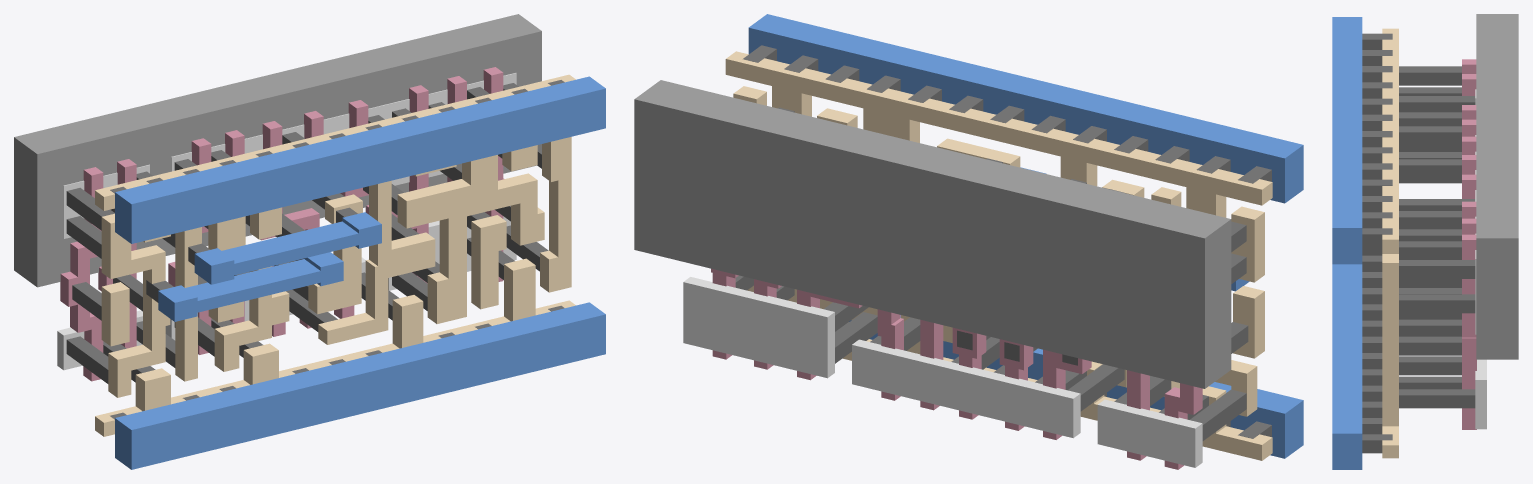
File: sky130_fd_sc_hd__dlrtp_1.gds.gltf
3 renders of one model, left to right at view 1: azimuth 30°, elevation 25°; view 2: azimuth 150°, elevation 25°; view 3: azimuth 270°, elevation 25°, orthographic. The views are drawn at different scales.
Parts seen in each view (by area): view 1: sky130_fd_sc_hd__dlrtp_1_met1, sky130_fd_sc_hd__dlrtp_1_li1, sky130_fd_sc_hd__dlrtp_1_nwell, sky130_fd_sc_hd__dlrtp_1_licon, sky130_fd_sc_hd__dlrtp_1_poly, sky130_fd_sc_hd__dlrtp_1_diff, sky130_fd_sc_hd__dlrtp_1_mcon; view 2: sky130_fd_sc_hd__dlrtp_1_nwell, sky130_fd_sc_hd__dlrtp_1_li1, sky130_fd_sc_hd__dlrtp_1_met1, sky130_fd_sc_hd__dlrtp_1_diff, sky130_fd_sc_hd__dlrtp_1_poly, sky130_fd_sc_hd__dlrtp_1_licon, sky130_fd_sc_hd__dlrtp_1_mcon; view 3: sky130_fd_sc_hd__dlrtp_1_licon, sky130_fd_sc_hd__dlrtp_1_nwell, sky130_fd_sc_hd__dlrtp_1_met1, sky130_fd_sc_hd__dlrtp_1_mcon, sky130_fd_sc_hd__dlrtp_1_li1, sky130_fd_sc_hd__dlrtp_1_poly, sky130_fd_sc_hd__dlrtp_1_diff.
Boxes of the visible parts, box(x1,y1,x2,y2) form: sky130_fd_sc_hd__dlrtp_1_met1: box(115, 76, 605, 469); sky130_fd_sc_hd__dlrtp_1_li1: box(95, 74, 575, 436); sky130_fd_sc_hd__dlrtp_1_nwell: box(14, 14, 541, 287); sky130_fd_sc_hd__dlrtp_1_licon: box(66, 83, 548, 383); sky130_fd_sc_hd__dlrtp_1_poly: box(60, 67, 504, 381); sky130_fd_sc_hd__dlrtp_1_diff: box(57, 73, 516, 370); sky130_fd_sc_hd__dlrtp_1_mcon: box(110, 80, 564, 419); sky130_fd_sc_hd__dlrtp_1_nwell: box(634, 80, 1231, 388); sky130_fd_sc_hd__dlrtp_1_li1: box(725, 51, 1272, 460); sky130_fd_sc_hd__dlrtp_1_met1: box(748, 14, 1303, 458); sky130_fd_sc_hd__dlrtp_1_diff: box(683, 277, 1202, 467); sky130_fd_sc_hd__dlrtp_1_poly: box(711, 268, 1202, 469); sky130_fd_sc_hd__dlrtp_1_licon: box(735, 107, 1248, 440); sky130_fd_sc_hd__dlrtp_1_mcon: box(743, 45, 1271, 438); sky130_fd_sc_hd__dlrtp_1_licon: box(1399, 66, 1475, 408); sky130_fd_sc_hd__dlrtp_1_nwell: box(1476, 14, 1518, 359); sky130_fd_sc_hd__dlrtp_1_met1: box(1332, 17, 1362, 469); sky130_fd_sc_hd__dlrtp_1_mcon: box(1362, 33, 1392, 453); sky130_fd_sc_hd__dlrtp_1_li1: box(1382, 28, 1398, 458); sky130_fd_sc_hd__dlrtp_1_poly: box(1462, 59, 1476, 429); sky130_fd_sc_hd__dlrtp_1_diff: box(1475, 89, 1486, 429).
Size of the model in its own units: 6.36 by 3.2 by 2.24.
